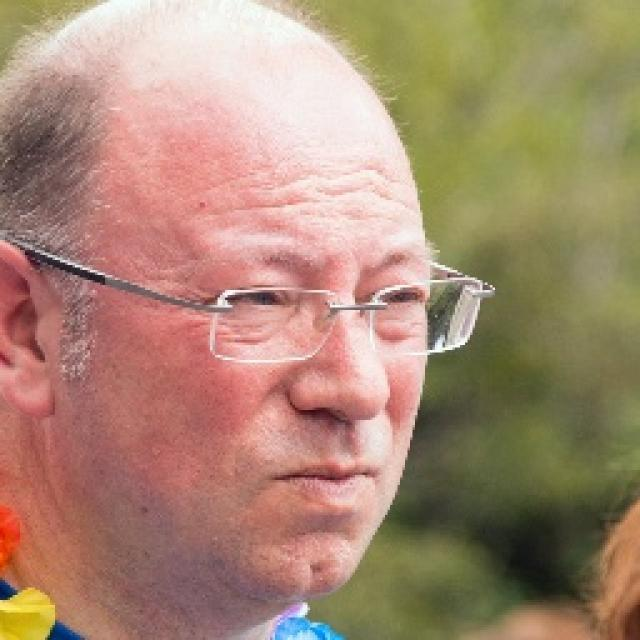earlobe: (0, 240, 56, 421)
